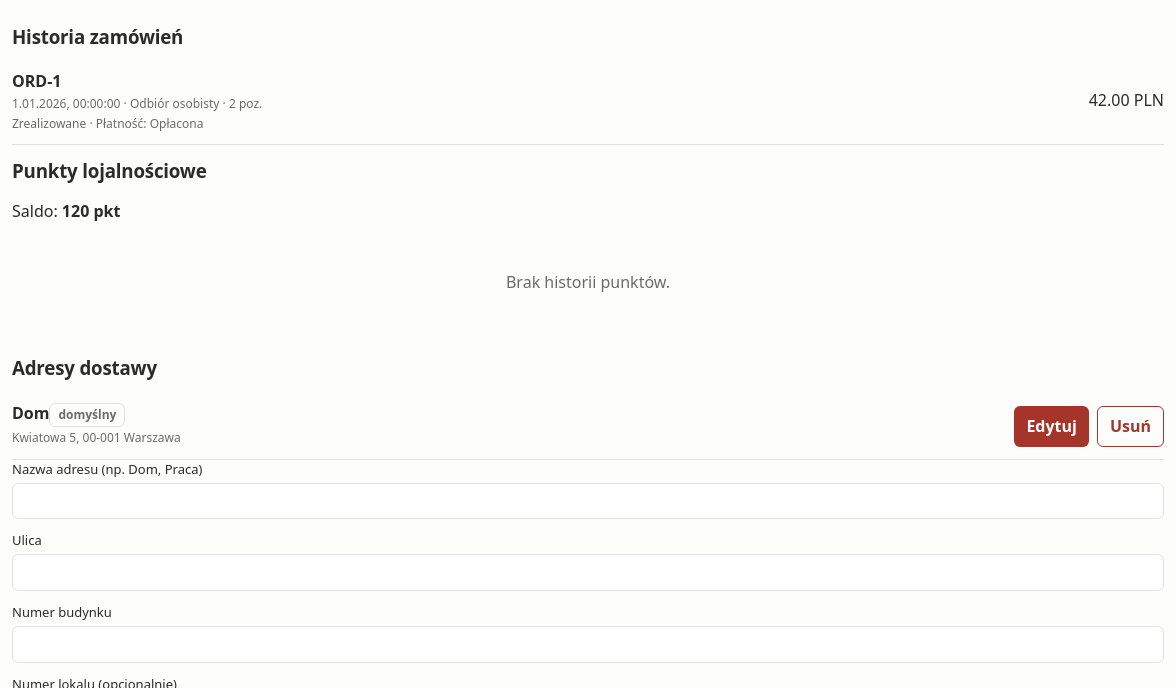
Scenario: MyAccountPage › cancels an in-progress address edit and restores the "add" form
Expected: the text "Dom" is shown, [12,402,50,424]
Click the button "Edytuj" at (1052, 426), box [1014,406,1089,447]
(page scrolled)
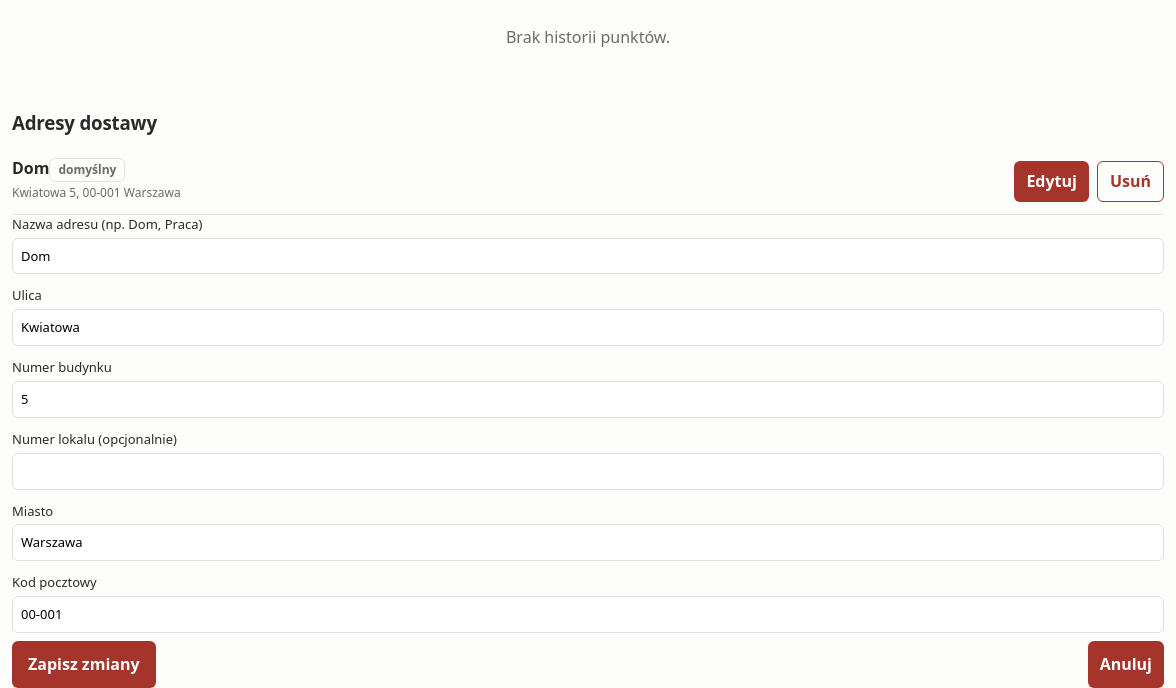
Expected: the button "Zapisz zmiany" is shown, [12,641,156,687]
Click the button "Anuluj" at (1126, 664), box [1088,641,1164,687]
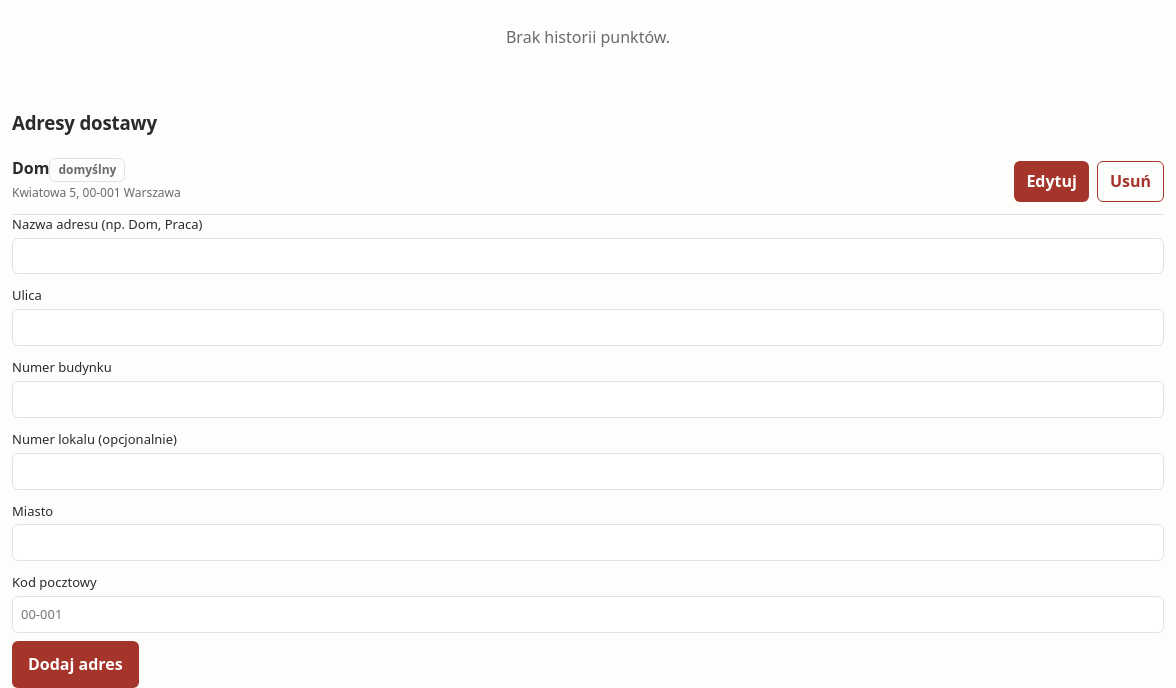
Expected: the button "Dodaj adres" is shown, [12,641,139,687]
Expected: the field labelled "Nazwa adresu (np. Dom, Praca)" is empty, [12,238,1164,274]
